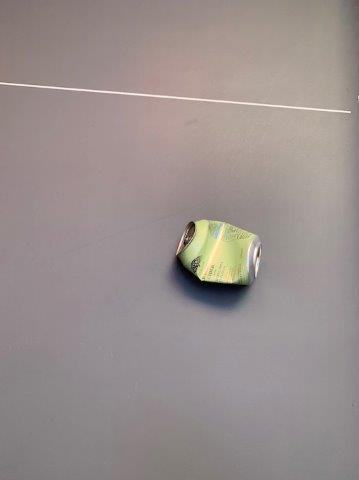kaleng: (177, 219, 262, 287)
